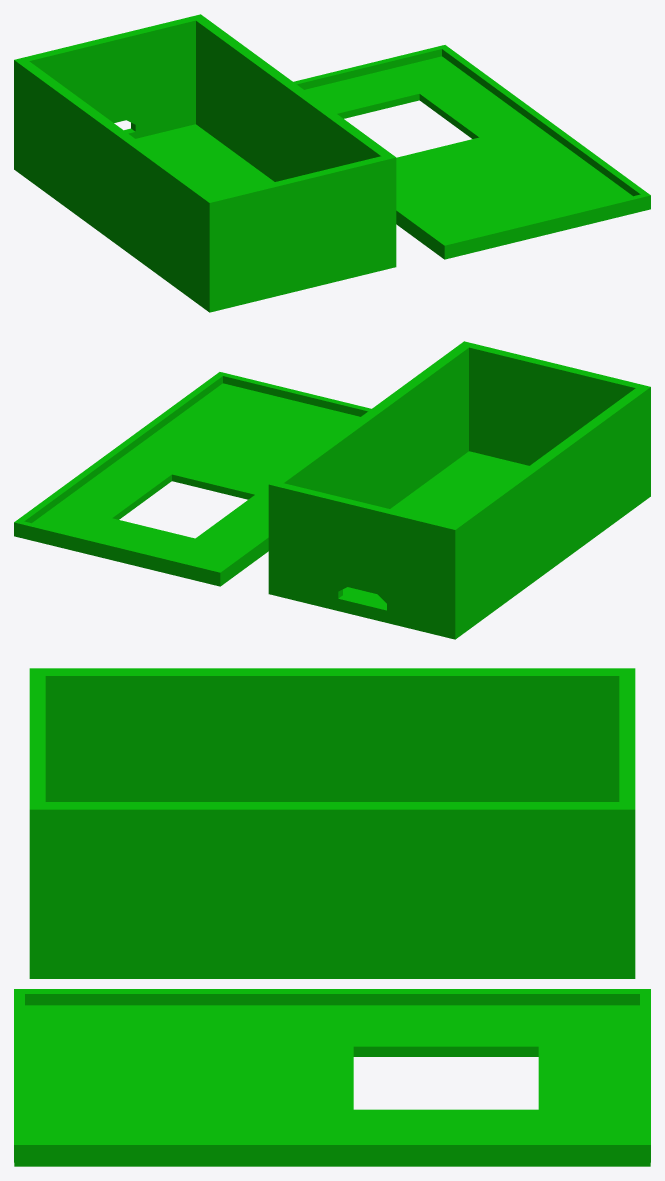
Rendered from AnotherTempSensorCase.obj.
3 renders of one model, top to bottom at view 1: azimuth 30°, elevation 25°; view 2: azimuth 150°, elevation 25°; view 3: azimuth 270°, elevation 25°, orthographic. The views are drawn at different scales.
Parts seen in each view (by area): view 1: Cube_Cube.006, Cube.001_Cube.007; view 2: Cube_Cube.006, Cube.001_Cube.007; view 3: Cube_Cube.006, Cube.001_Cube.007.
Boxes of the visible parts, x1,y1,x2,y2 form: Cube_Cube.006: (14,14,396,312); Cube.001_Cube.007: (293,45,650,259); Cube_Cube.006: (268,341,650,639); Cube.001_Cube.007: (14,372,371,586); Cube_Cube.006: (29,668,635,978); Cube.001_Cube.007: (14,989,650,1166).
Size of the model in its own units: 68.18 by 16.37 by 55.7.
